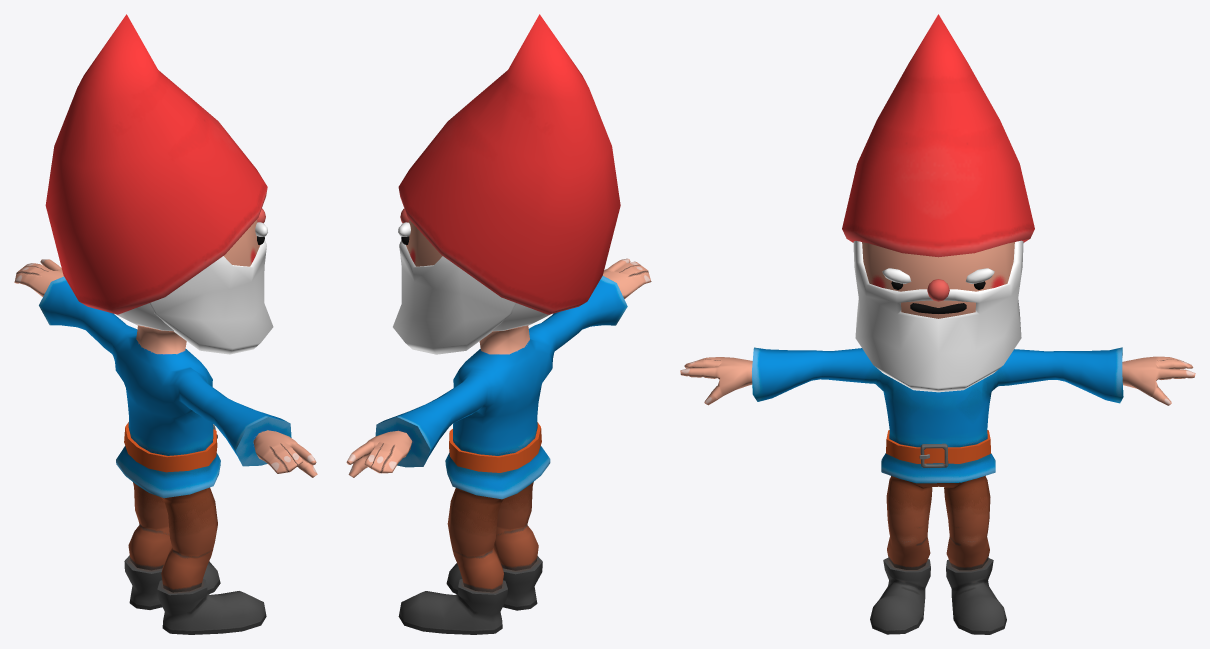
3 renders of one model, left to right at view 1: azimuth 30°, elevation 25°; view 2: azimuth 150°, elevation 25°; view 3: azimuth 270°, elevation 25°, orthographic. The views are drawn at different scales.
Visible parts, largest first — view 1: mesh_char_133; view 2: mesh_char_133; view 3: mesh_char_133.
Boxes of the visible parts, x1,y1,x2,y2 form: mesh_char_133: (14,14,317,634); mesh_char_133: (346,14,651,634); mesh_char_133: (680,14,1195,634).
Bounding box in the file's own units: 1.86 × 5.26 × 4.31.
Materials: 1 (1 with a texture image).
